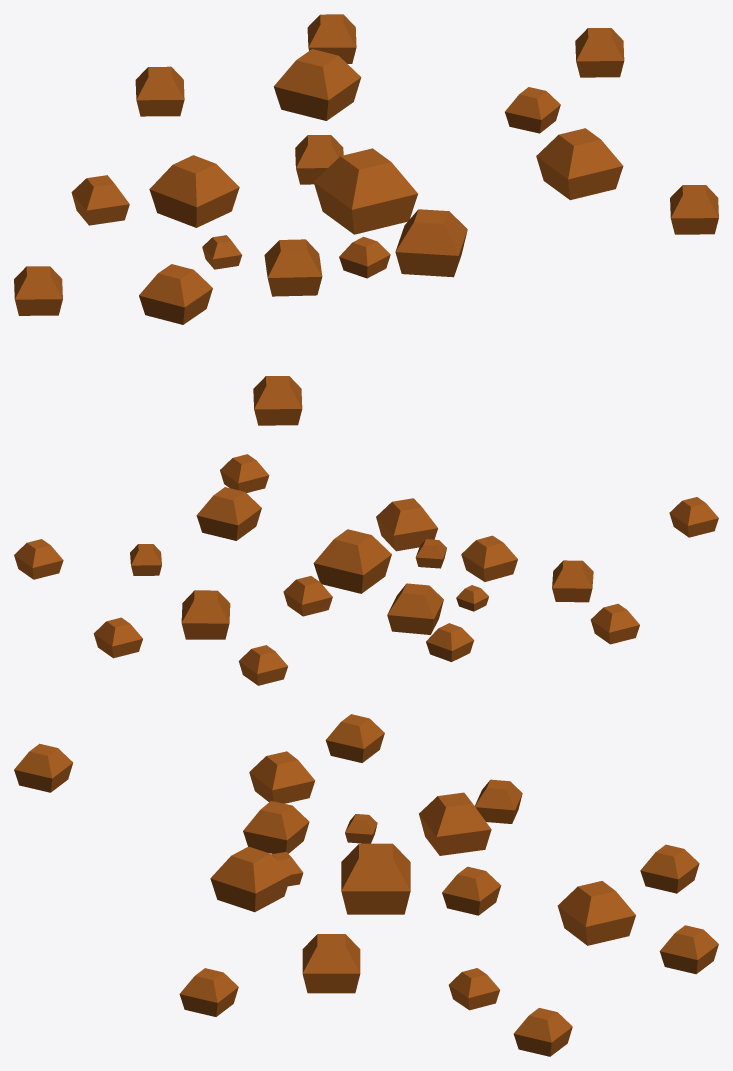
File: Piedras Race.fbx
The picture shows the model from 3 angles, top to bottom: view 1: azimuth 30°, elevation 25°; view 2: azimuth 150°, elevation 25°; view 3: azimuth 270°, elevation 25°; orthographic projection. The views are drawn at different scales.
Visible parts, largest first — view 1: Rocas; view 2: Rocas; view 3: Rocas.
Part boxes in pixels (box(x1,y1,x2,y2)): Rocas: box(14, 14, 718, 425); Rocas: box(14, 454, 718, 685); Rocas: box(14, 714, 718, 1056).
Size of the model in its own units: 26389 by 2117 by 24667.
